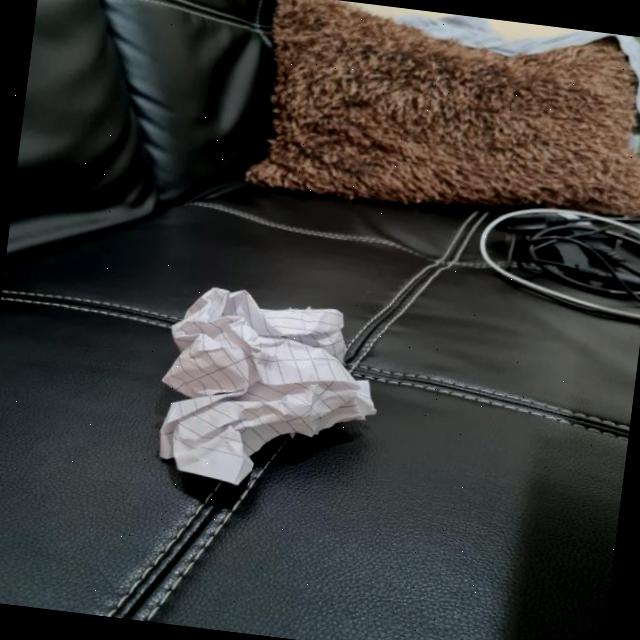trash: (157, 270, 382, 502)
